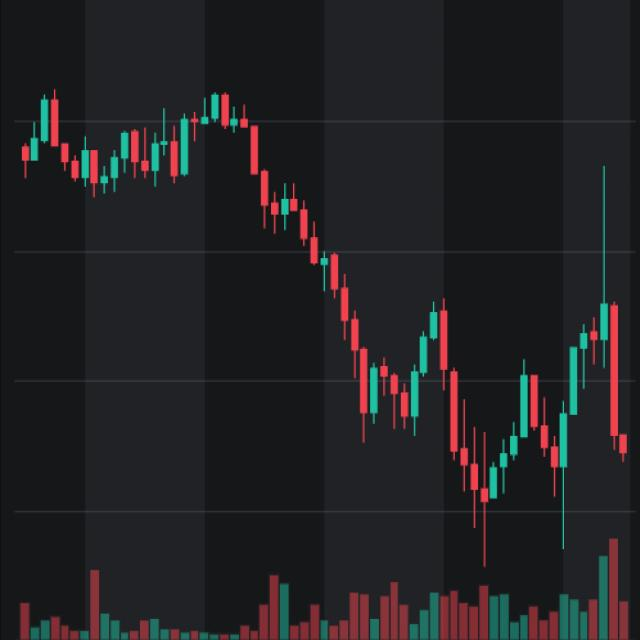Support-breakout: (114, 90, 368, 444)
